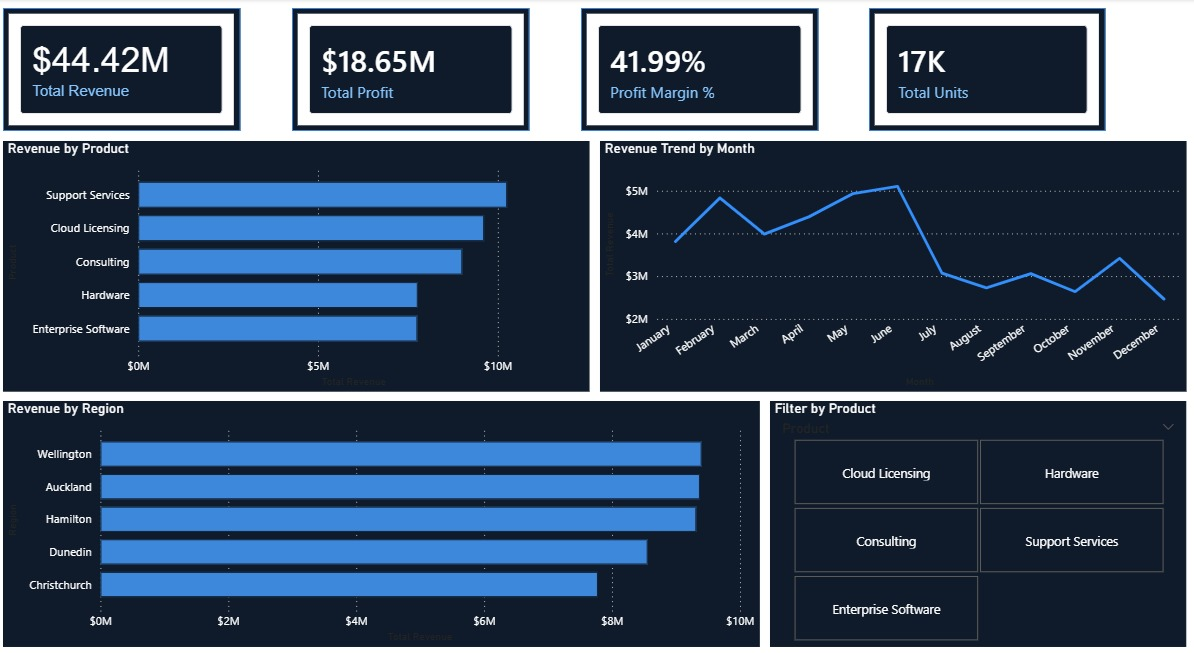

The dashboard page shown, as its layout file describes it:
{"tool":"powerbi","page":{"name":"Overview","canvas":[1280,720],"ordinal":0},"visuals":[{"type":"cardVisual","fields":{"Data":["Financial_Data.Total Revenue"]},"box":[10,10,250.5,130],"z":0},{"type":"cardVisual","fields":{"Data":["Financial_Data.Total Profit"]},"box":[315,10,251,130.5],"z":1},{"type":"cardVisual","fields":{"Data":["Financial_Data.Profit Margin %"]},"box":[620,10,251,130.5],"z":2},{"type":"clusteredBarChart","title":"Revenue by Product","fields":{"Y":["Financial_Data.Total Revenue"],"Category":["Financial_Data.Product"]},"box":[10,150,620,265],"z":3},{"type":"lineChart","title":"Revenue Trend by Month","fields":{"Y":["Financial_Data.Total Revenue"],"Category":["Financial_Data.Date.Variation.Date Hierarchy.Month"]},"box":[640,150,620,265],"z":4},{"type":"clusteredBarChart","title":"Revenue by Region","fields":{"Category":["Financial_Data.Region"],"Y":["Financial_Data.Total Revenue"]},"box":[10,425,800,260],"z":5},{"type":"slicer","title":"Filter by Product","fields":{"Values":["Financial_Data.Product"]},"box":[820,425,440,260],"z":6},{"type":"cardVisual","fields":{"Data":["Financial_Data.Total Units"]},"box":[925,10,249.8,130.5],"z":7}]}

Visuals, with their boxes in screenshot pixels (x1, y1, x2, y2), scaled from the page's 1280x720 canvas onto the 1194x653 screenshot:
cardVisual - Financial_Data.Total Revenue: {"left": 9, "top": 9, "right": 243, "bottom": 127}
cardVisual - Financial_Data.Total Profit: {"left": 294, "top": 9, "right": 528, "bottom": 127}
cardVisual - Financial_Data.Profit Margin %: {"left": 578, "top": 9, "right": 812, "bottom": 127}
"Revenue by Product" clusteredBarChart: {"left": 9, "top": 136, "right": 588, "bottom": 376}
"Revenue Trend by Month" lineChart: {"left": 597, "top": 136, "right": 1175, "bottom": 376}
"Revenue by Region" clusteredBarChart: {"left": 9, "top": 385, "right": 756, "bottom": 621}
"Filter by Product" slicer: {"left": 765, "top": 385, "right": 1175, "bottom": 621}
cardVisual - Financial_Data.Total Units: {"left": 863, "top": 9, "right": 1096, "bottom": 127}
